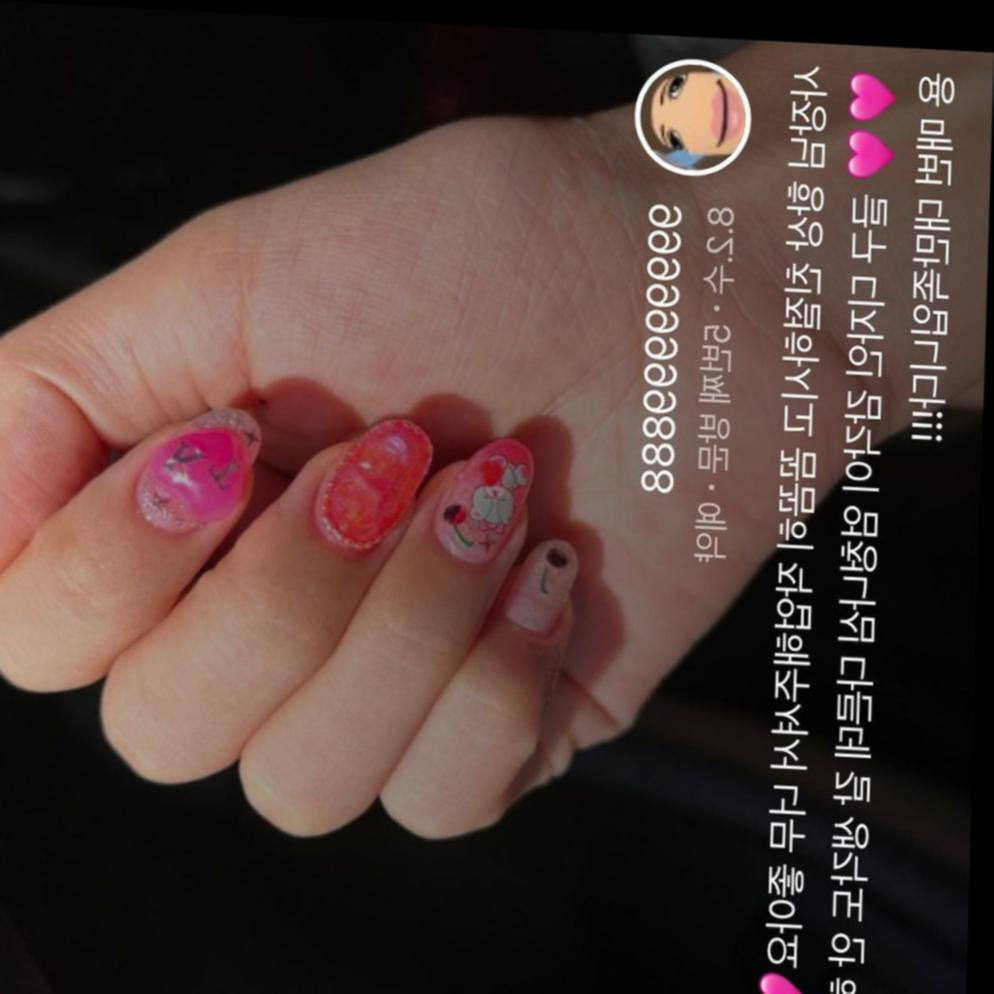nail: (309, 411, 434, 555), (132, 401, 263, 537), (429, 431, 536, 568), (501, 533, 581, 636)
